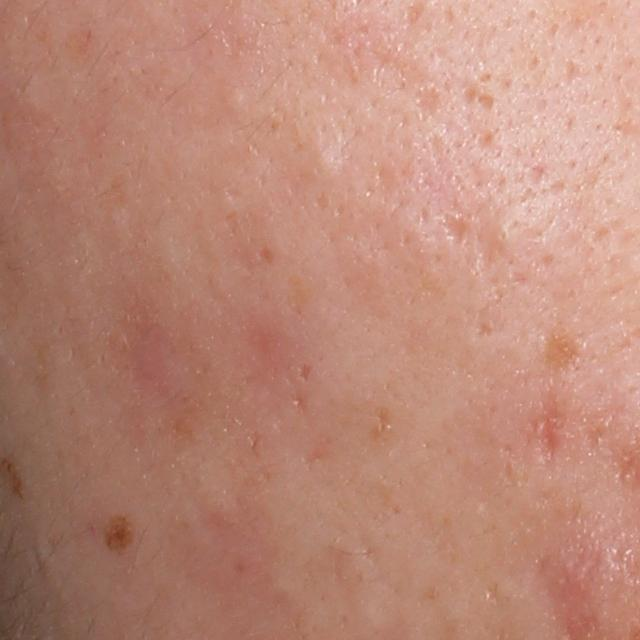atrophic_scar: (472, 214, 512, 273), (533, 397, 565, 470), (435, 210, 474, 251), (411, 83, 442, 124), (460, 85, 498, 115), (287, 389, 311, 417), (297, 361, 316, 382)
comedo: (301, 141, 341, 183), (489, 220, 518, 249), (221, 83, 249, 110)
nevus: (78, 511, 154, 580)
